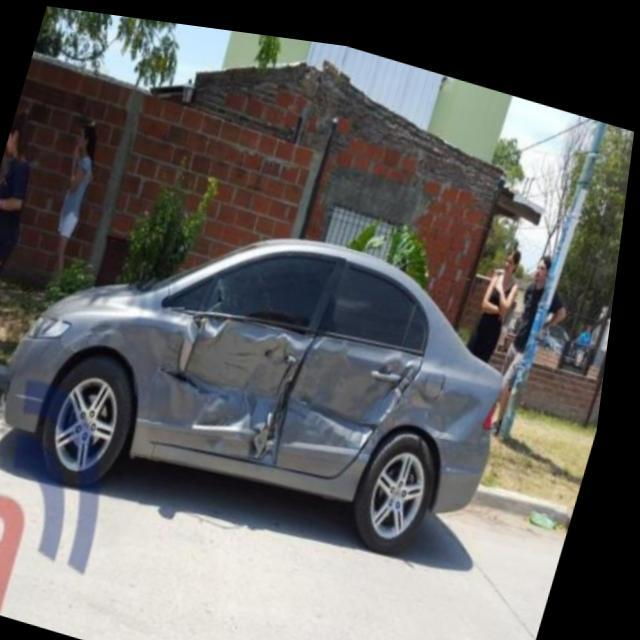dent: (102, 305, 493, 468)
